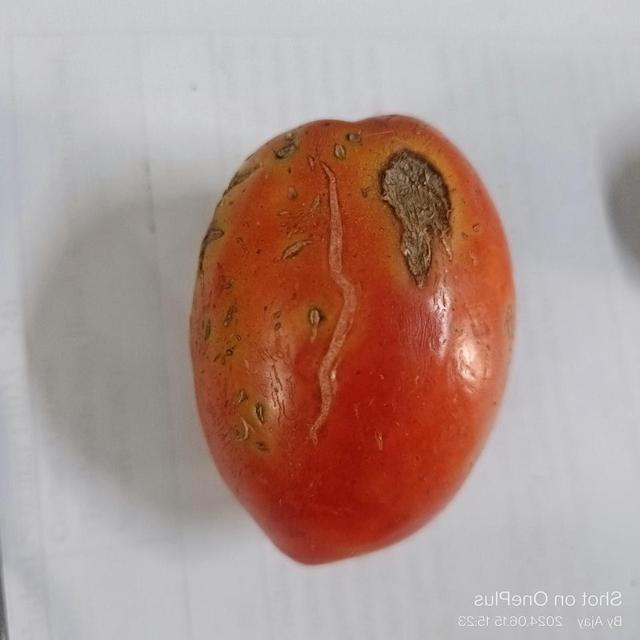Cracking Fruit: (202, 187, 285, 293)
